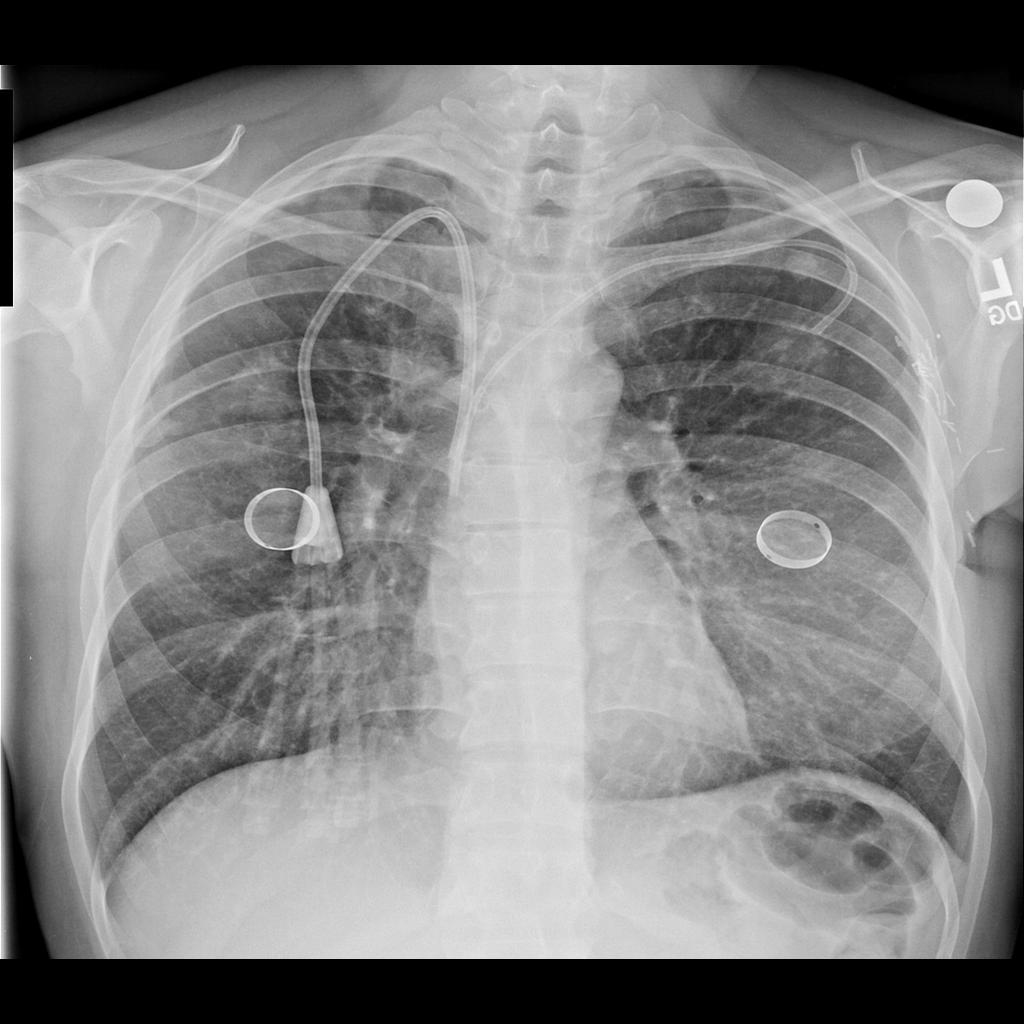Nodule: (735, 327, 833, 399), (229, 383, 294, 429), (791, 252, 815, 280)
